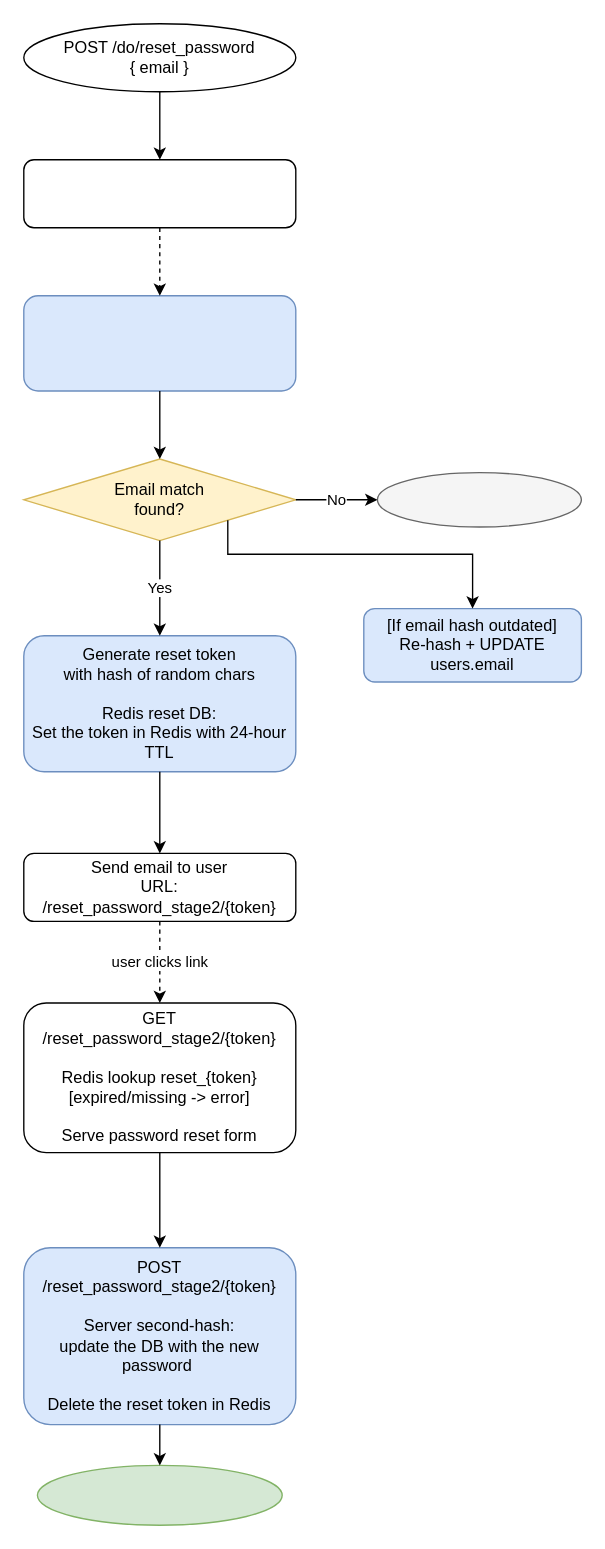
Some shapes in this 605 by 1549 pixel diagram are drawn without their labels. Each missing label, with the centre of its shape:
Background thread Verify email from DB: pixel 159 342
Password reset complete (token single-use): pixel 159 1494
Return { "error": false } immediately (constant-time response): pixel 159 193
Silent end (no email sent): pixel 478 499
